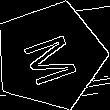M_E: (16, 25, 83, 86)
